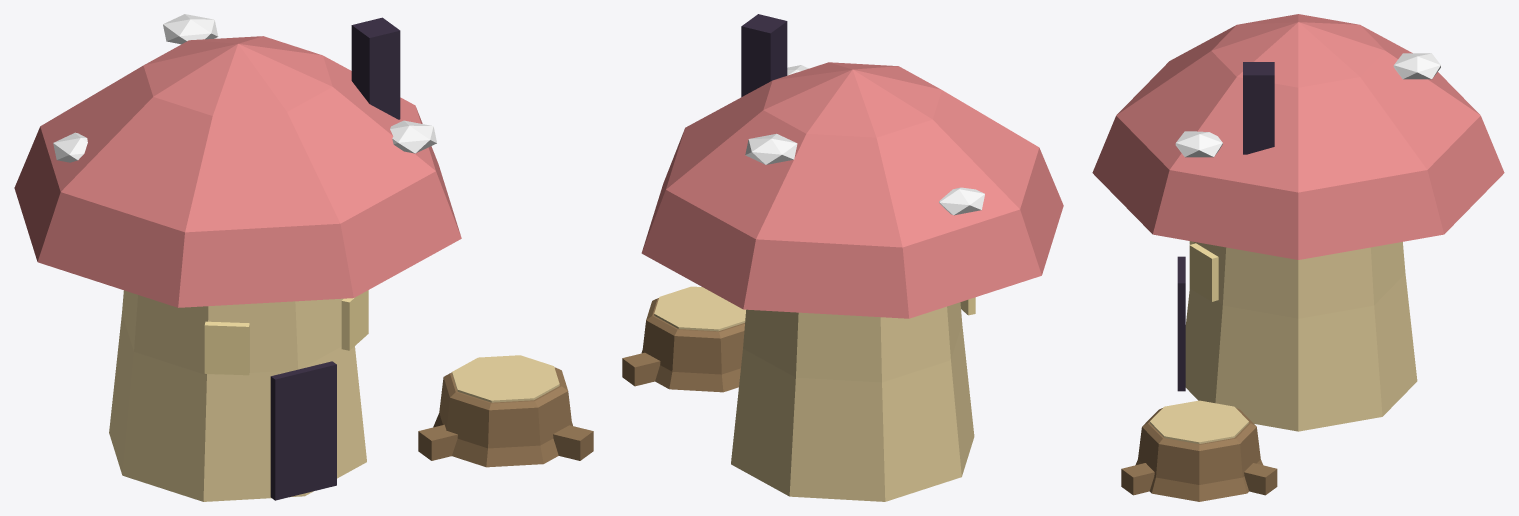
Rendered from forest-landmark-s2b.glb.
The picture shows the model from 3 angles, left to right: view 1: azimuth 30°, elevation 25°; view 2: azimuth 150°, elevation 25°; view 3: azimuth 270°, elevation 25°; orthographic projection. The views are drawn at different scales.
Parts seen in each view (by area): view 1: forest-landmark-s2b; view 2: forest-landmark-s2b; view 3: forest-landmark-s2b.
Boxes of the visible parts, left/top/right/bottom form: forest-landmark-s2b: left=14, top=14, right=593, bottom=501; forest-landmark-s2b: left=622, top=14, right=1063, bottom=501; forest-landmark-s2b: left=1092, top=14, right=1504, bottom=501.
Bounding box in the file's own units: 1.24 × 1.01 × 1.04.
